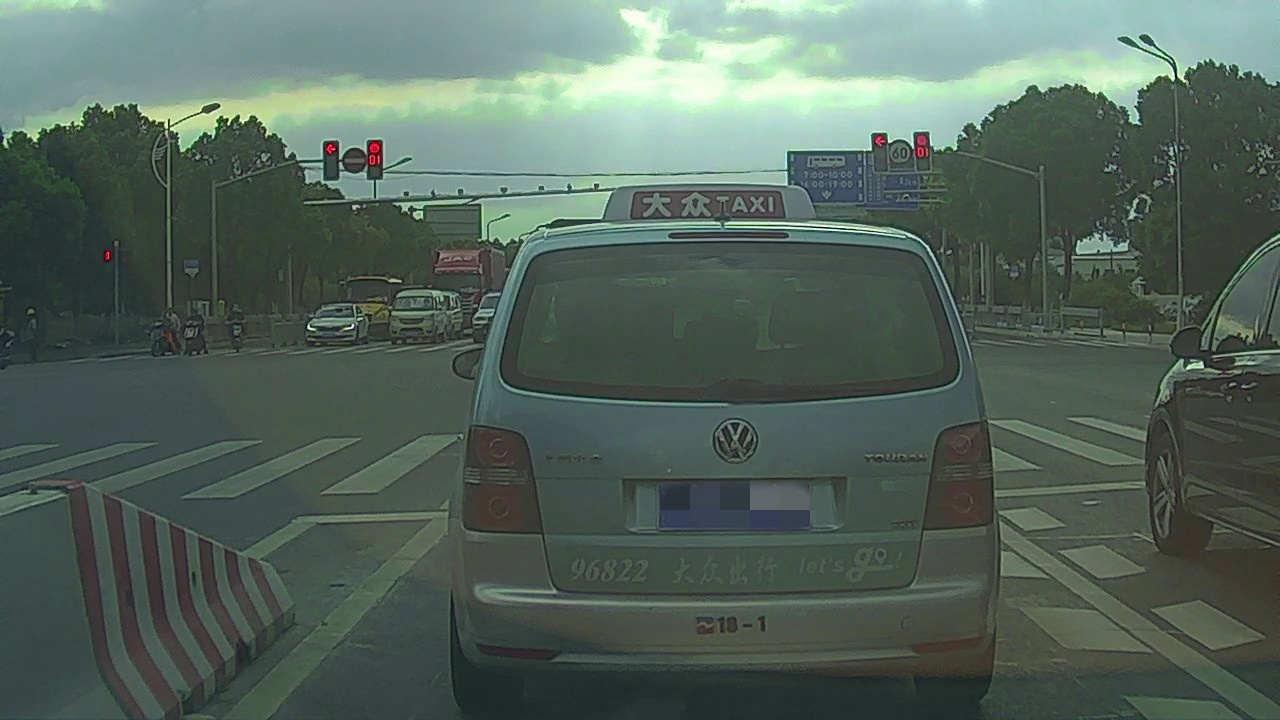traffic_light: (323, 138, 340, 181), (870, 132, 887, 172), (366, 139, 383, 178), (914, 131, 931, 170)
